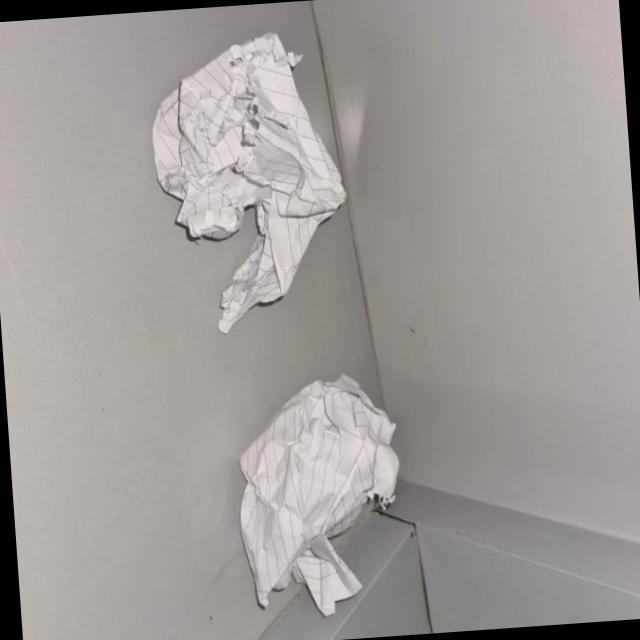cardboard paper: (153, 32, 345, 330), (241, 374, 399, 613)
